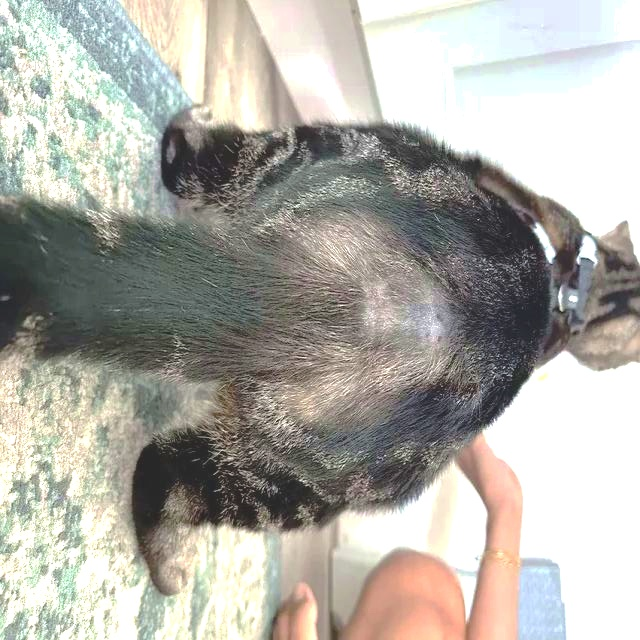hairloss: (350, 278, 460, 371)
